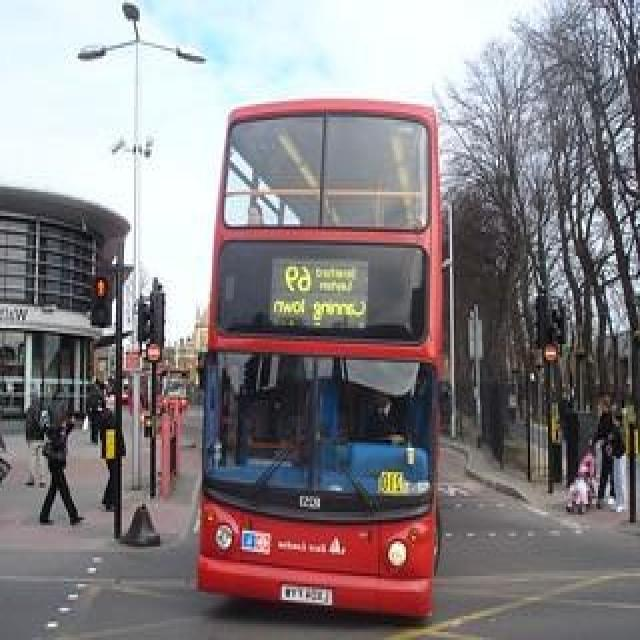Bus: (183, 25, 465, 640)
